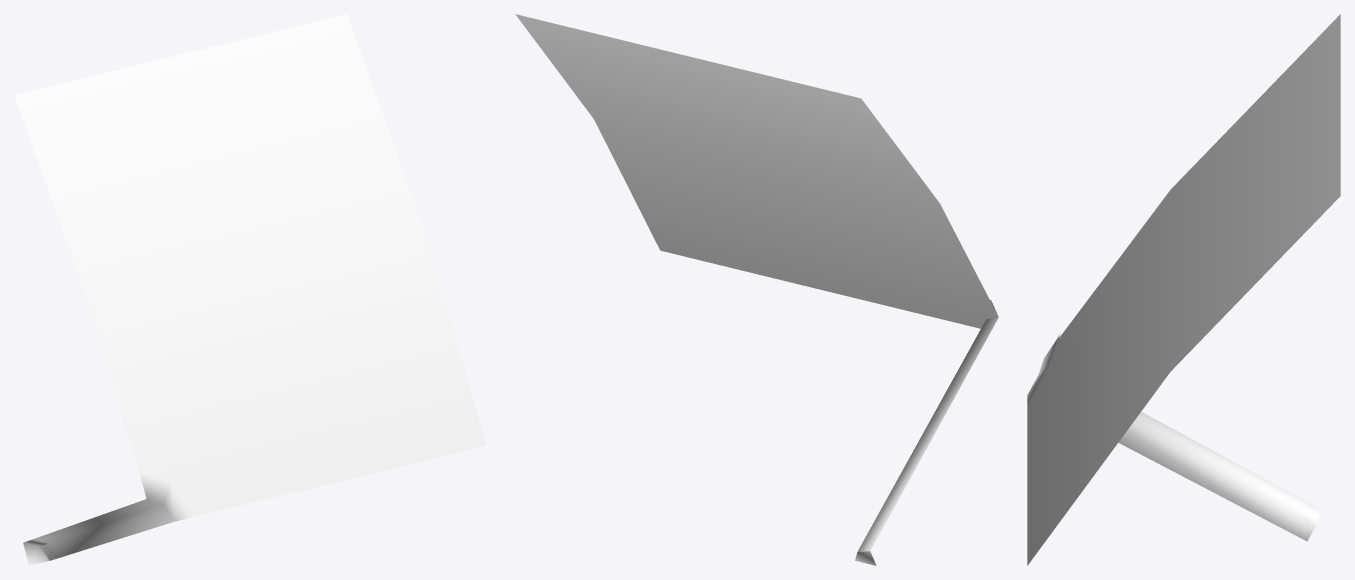
Rendered from grd_Ene_i_0.dae.
3 views of the same model, side by side, from view 1: azimuth 30°, elevation 25°; view 2: azimuth 150°, elevation 25°; view 3: azimuth 270°, elevation 25° (orthographic). The views are drawn at different scales.
Visible parts, largest first — view 1: grass_1_0, cliff_0_0; view 2: grass_1_0, cliff_0_0; view 3: grass_1_0, cliff_0_0.
Part boxes in pixels (x1,y1,x2,y2): grass_1_0: [14, 14, 486, 565]; cliff_0_0: [33, 471, 195, 560]; grass_1_0: [515, 14, 998, 565]; cliff_0_0: [857, 300, 998, 551]; grass_1_0: [1027, 14, 1340, 565]; cliff_0_0: [1027, 334, 1320, 541].
Size of the model in its own units: 128 by 169 by 92.96.
Materials: 2 (1 with a texture image).
